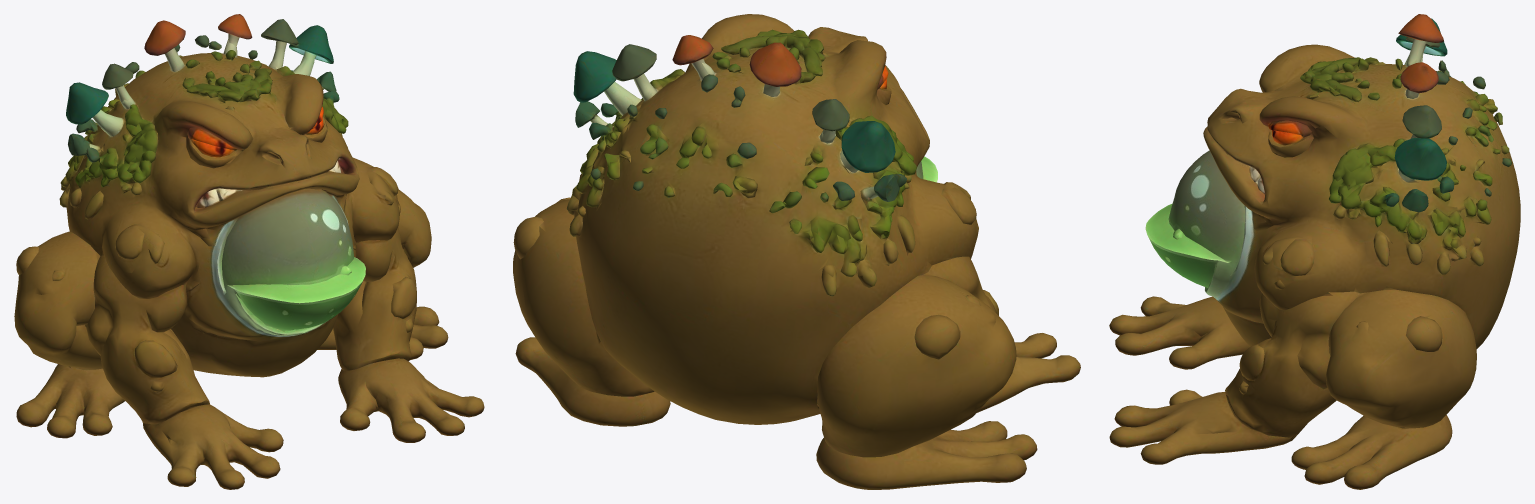
File: crapaud-v2.glb
The picture shows the model from 3 angles, left to right: view 1: azimuth 30°, elevation 25°; view 2: azimuth 150°, elevation 25°; view 3: azimuth 270°, elevation 25°; orthographic projection. The views are drawn at different scales.
Visible parts, largest first — view 1: Mesh; view 2: Mesh; view 3: Mesh.
Boxes of the visible parts, x1=… form: Mesh: x1=14, y1=14, x2=484, y2=489; Mesh: x1=513, y1=14, x2=1080, y2=489; Mesh: x1=1109, y1=14, x2=1520, y2=489.
Bounding box in the file's own units: 1.86 × 1.47 × 1.53.
1 material, 1 textured.
